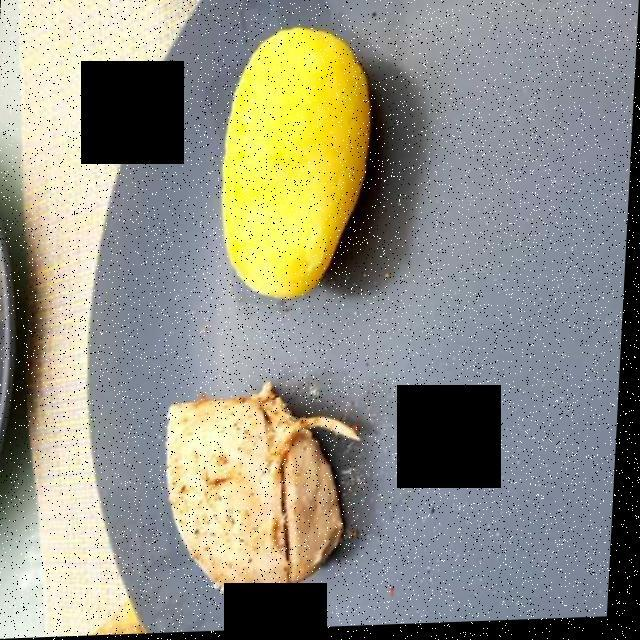chicken: (171, 388, 358, 594)
